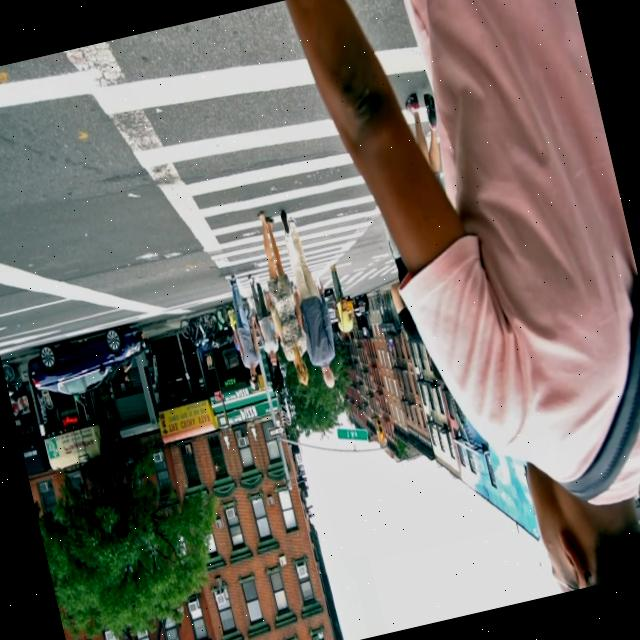Persona: (303, 0, 640, 619), (274, 200, 348, 394), (246, 205, 316, 392), (217, 274, 268, 388)
